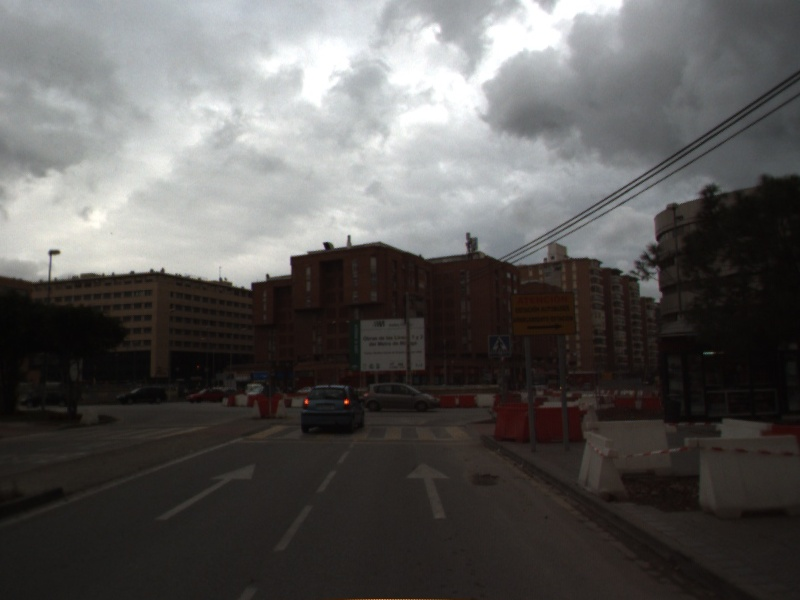STRAIGHT: (153, 460, 259, 522), (404, 459, 453, 520)
